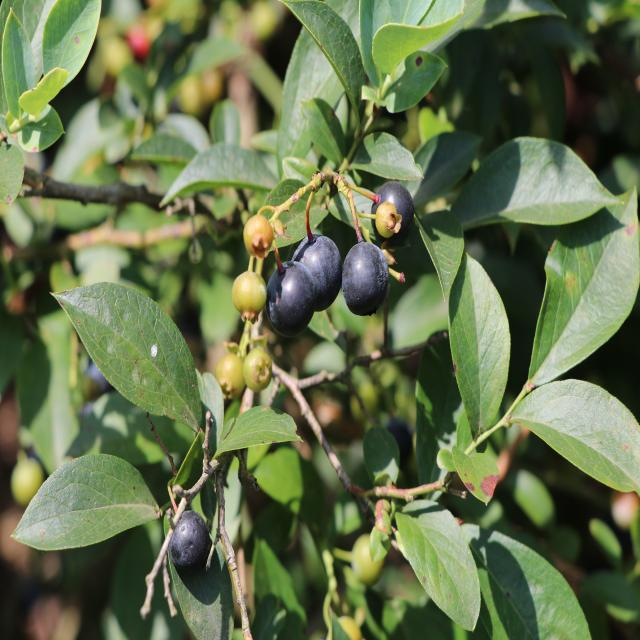blueberry: (338, 234, 392, 317), (292, 230, 342, 314), (263, 259, 316, 337), (164, 510, 212, 570), (371, 182, 414, 242)
blueberry-unripe: (230, 268, 267, 318), (242, 210, 274, 258), (241, 345, 272, 391), (216, 350, 246, 397), (375, 202, 400, 237)
